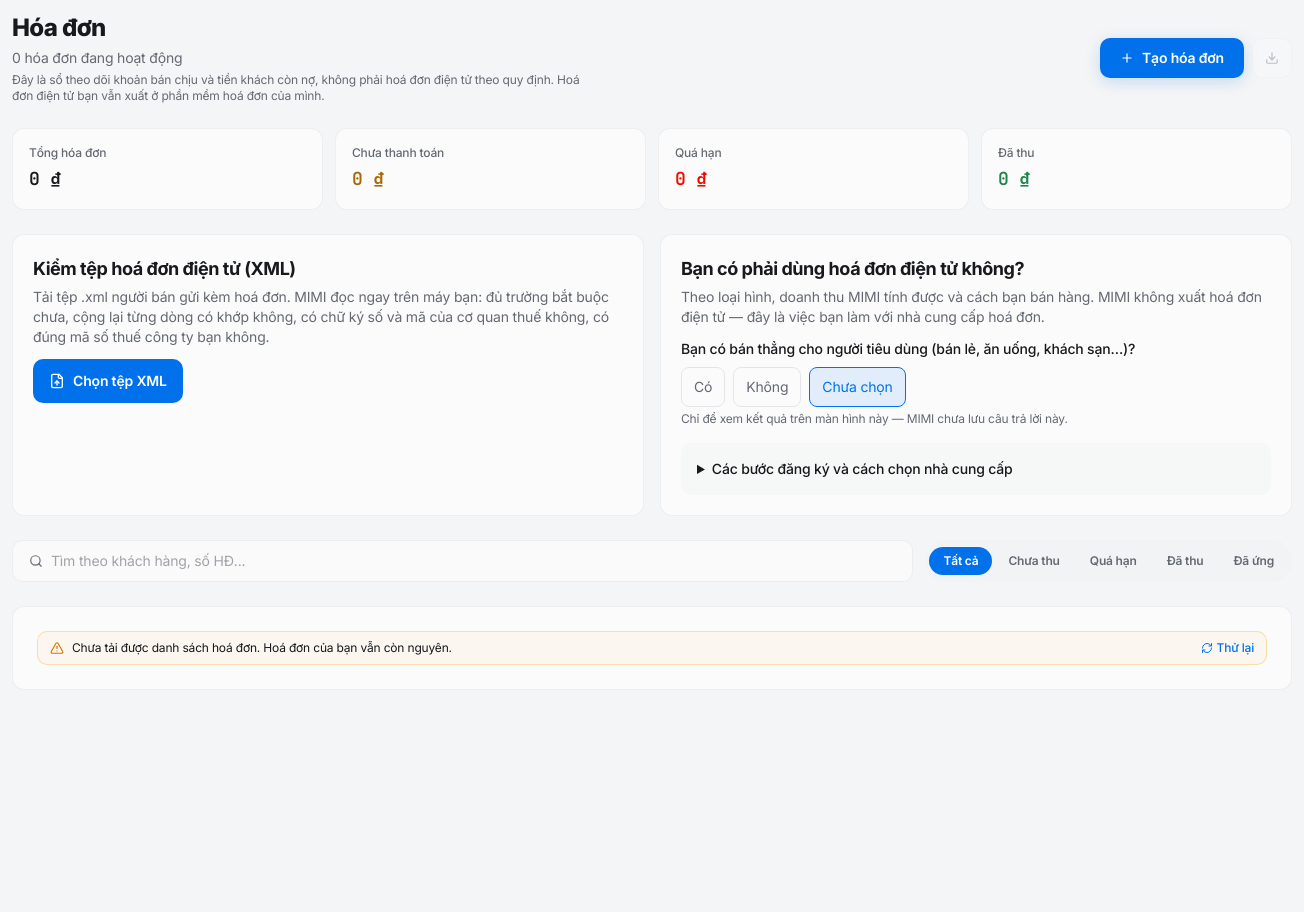
trang Hoá đơn — đọc lỗi không được giả làm "chưa có hoá đơn" › máy chủ lỗi → báo chưa tải được, có nút thử lại; thử lại thành công thì hiện hoá đơn
Expected: the message shows "Chưa tải được danh sách hoá đơn", [72,640,452,655]
Click the button "Thử lại" at {"x": 1227, "y": 648}, box [1200,640,1254,656]
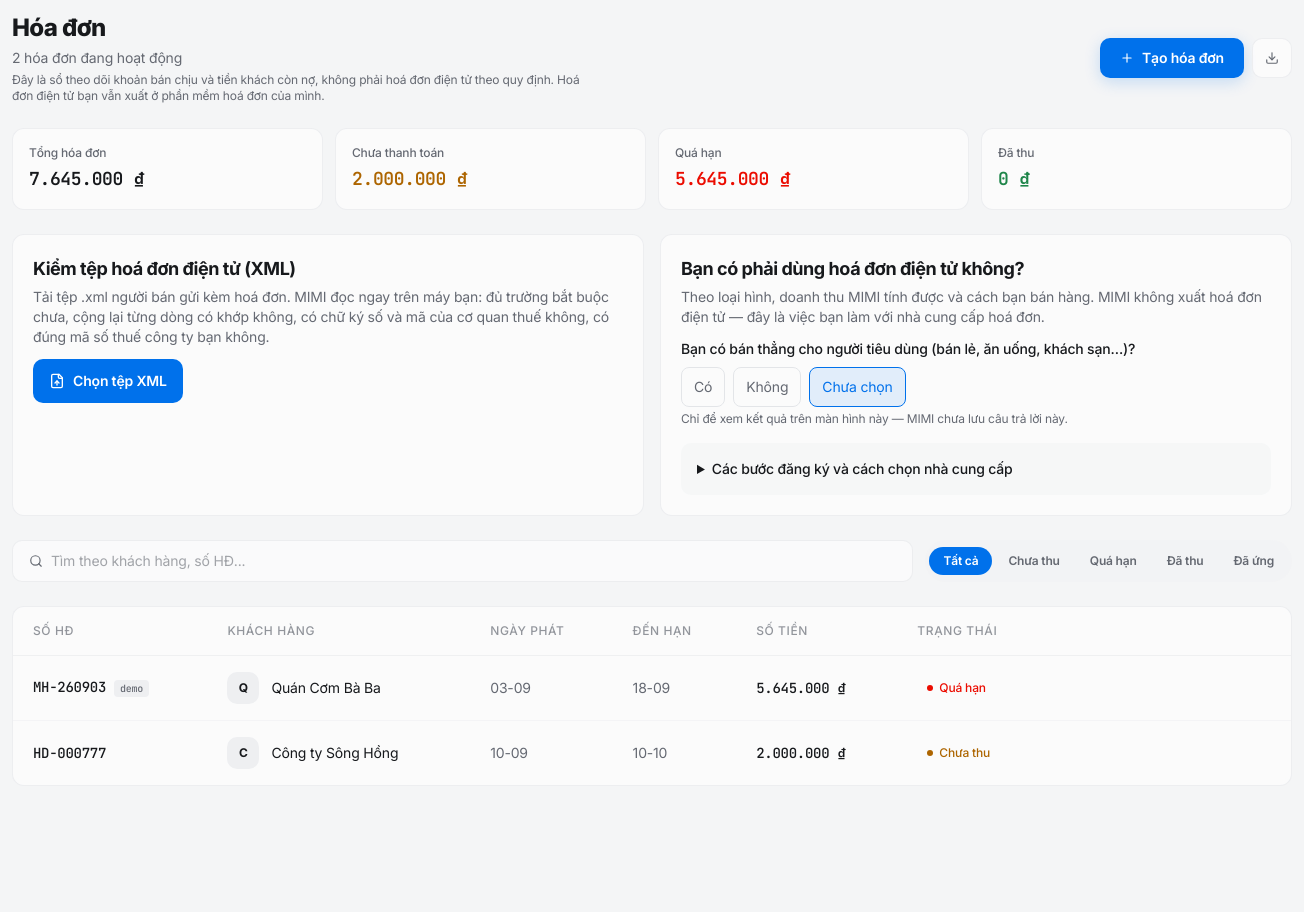
Result: the text "HD-000777" is shown at [13,720,207,785]
Result: the message "Chưa tải được danh sách hoá đơn. Hoá đơn của bạn vẫn còn nguyên. Thử lại" is gone
